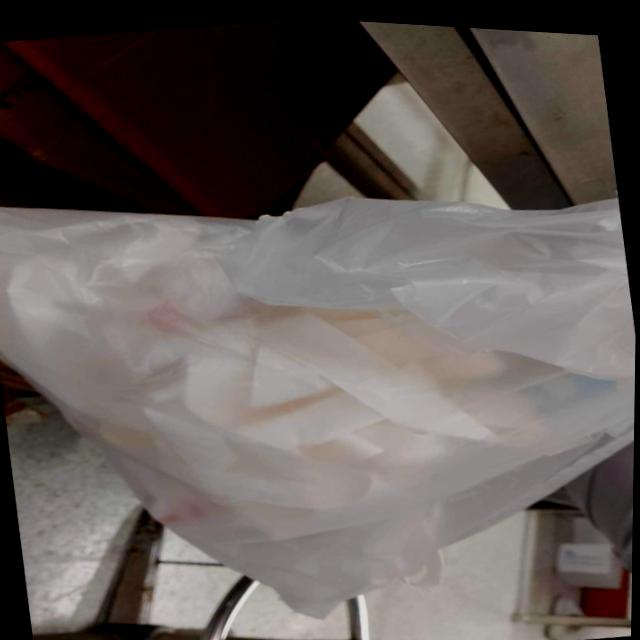General: (2, 193, 635, 618)
